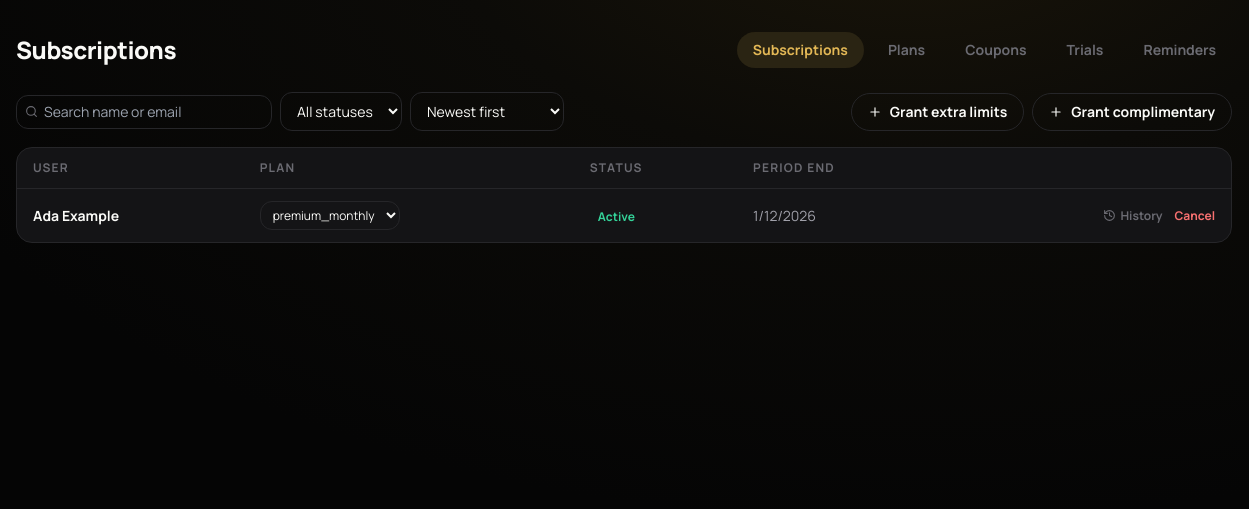
Test: Subscriptions (admin) › linking plans › shows a linked-partner note on the plan row once linked
Expected: the table with test id "admin-subscriptions-table" is shown, [17, 148, 1231, 242]
Click the button with test id "admin-subscriptions-tab-plans": (907, 50) [872, 32, 941, 68]
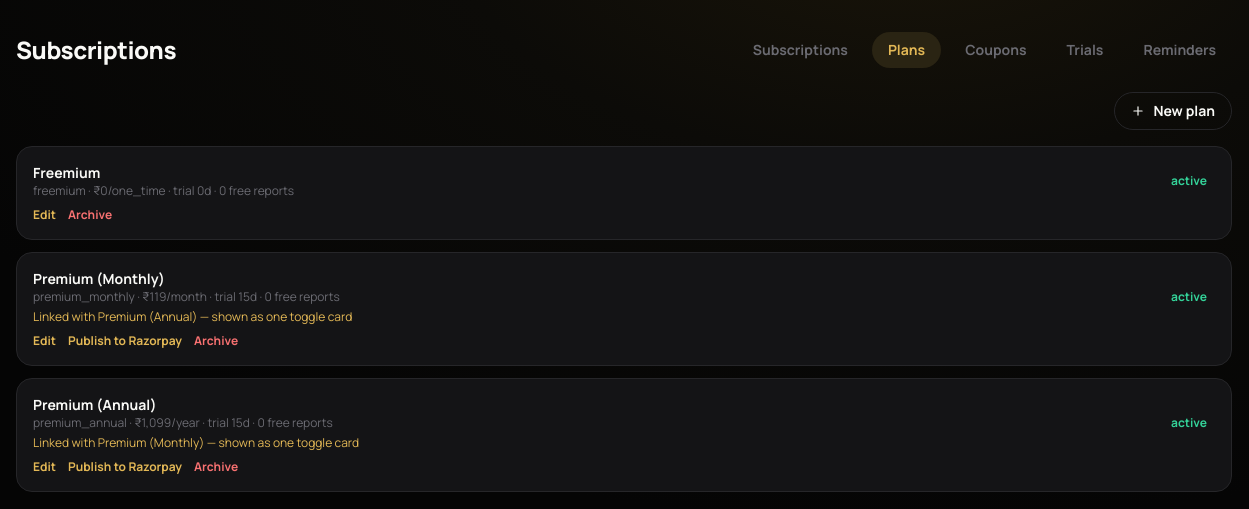
Expected: the text with test id "admin-plans-linked-note-p2" shows "Linked with Premium (Annual)", [33, 309, 352, 325]
